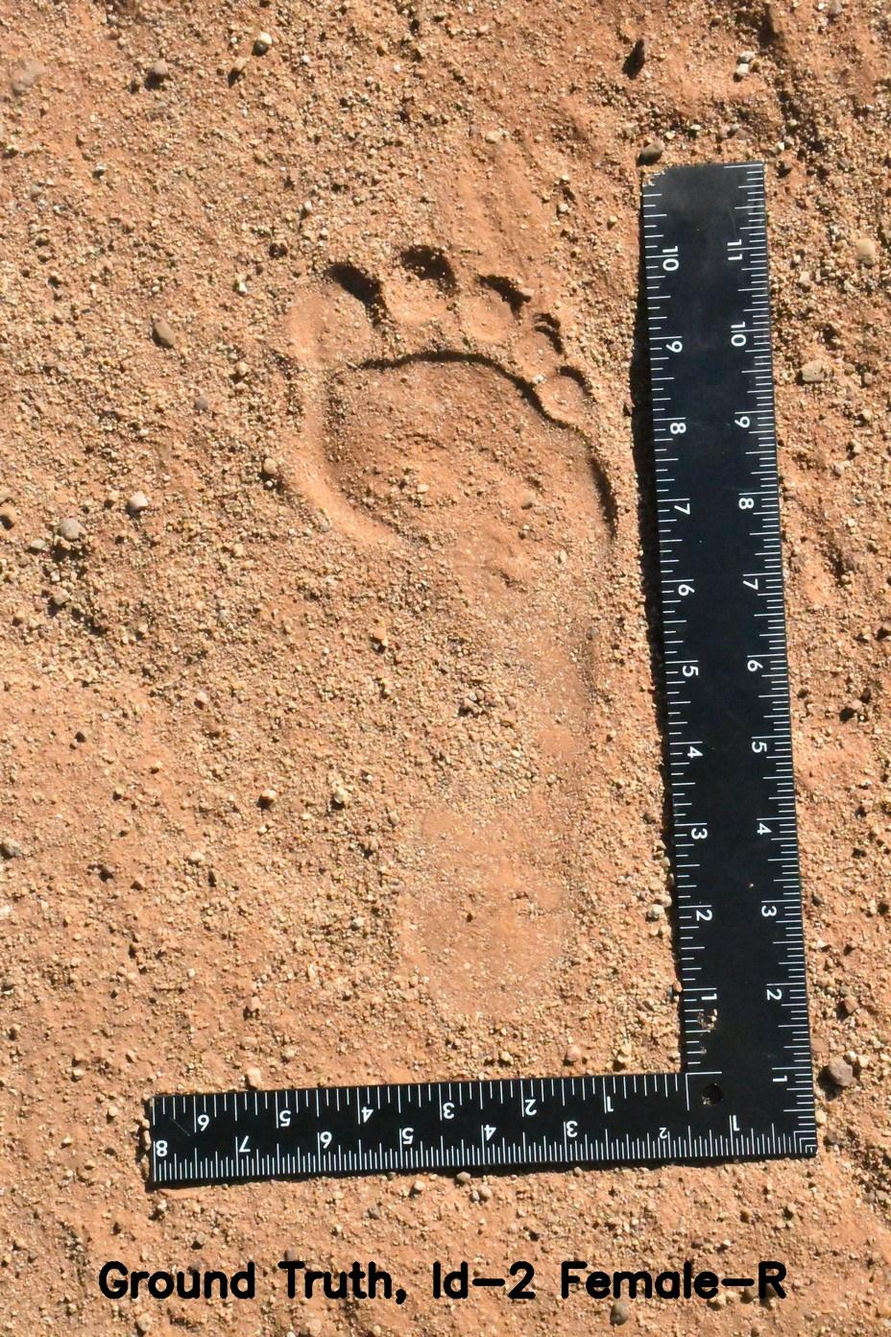human_foot_print: (273, 212, 640, 1047)
